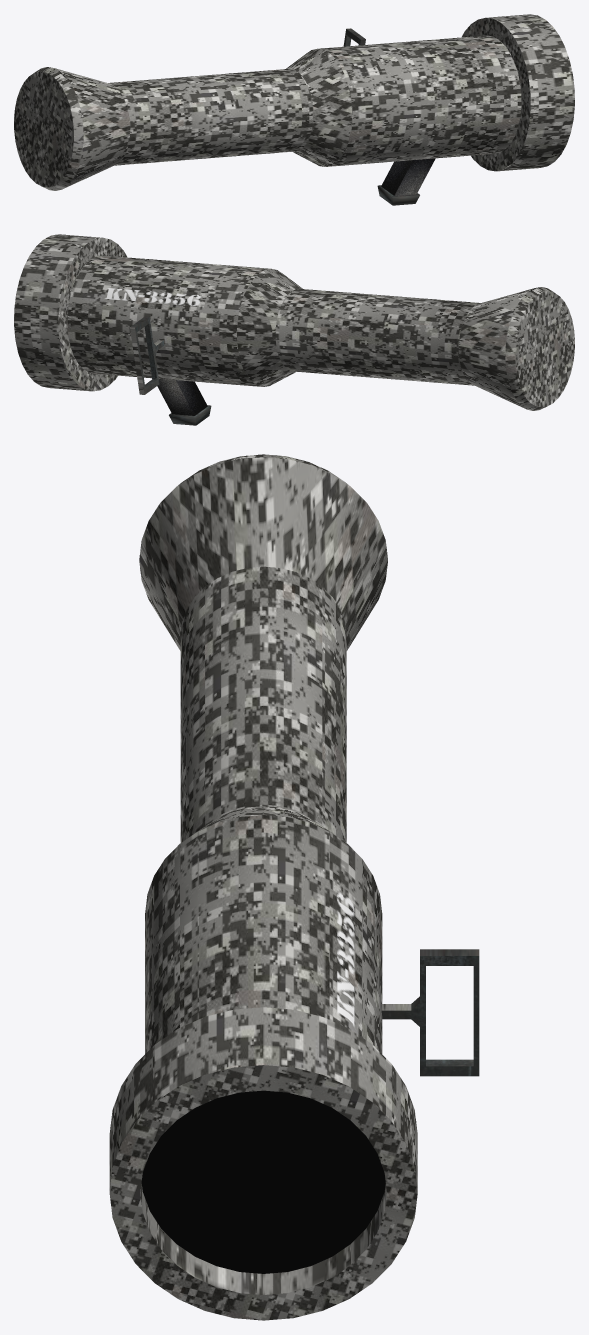
The model's file is launcher_000016.obj.
3 renders of one model, top to bottom at view 1: azimuth 30°, elevation 25°; view 2: azimuth 150°, elevation 25°; view 3: azimuth 270°, elevation 25°, orthographic. The views are drawn at different scales.
Parts seen in each view (by area): view 1: Cylinder; view 2: Cylinder; view 3: Cylinder.
Boxes of the visible parts, <box> form: Cylinder: <box>14,14,574,205</box>; Cylinder: <box>14,234,574,425</box>; Cylinder: <box>109,454,479,1320</box>.
Size of the model in its own units: 8.93 by 3.57 by 2.81.
Materials: 1 (1 with a texture image).
